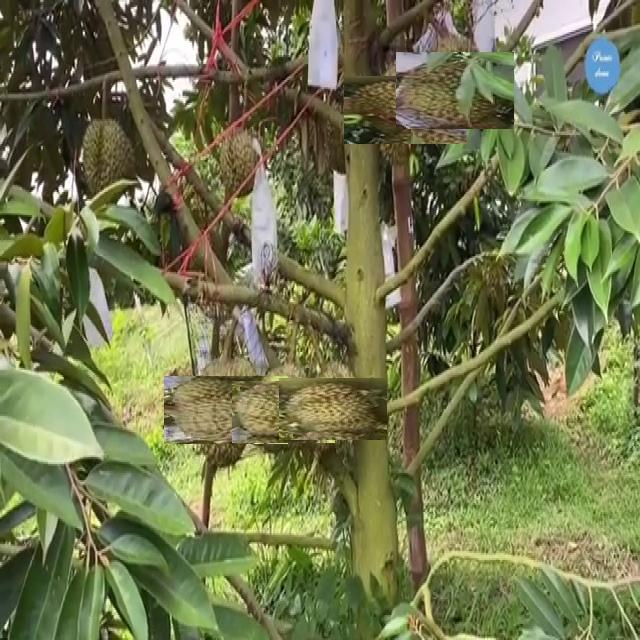durian: (406, 41, 504, 139), (178, 362, 275, 458), (357, 63, 453, 158), (291, 366, 376, 451), (242, 370, 325, 453), (74, 111, 140, 210), (214, 121, 265, 202)
